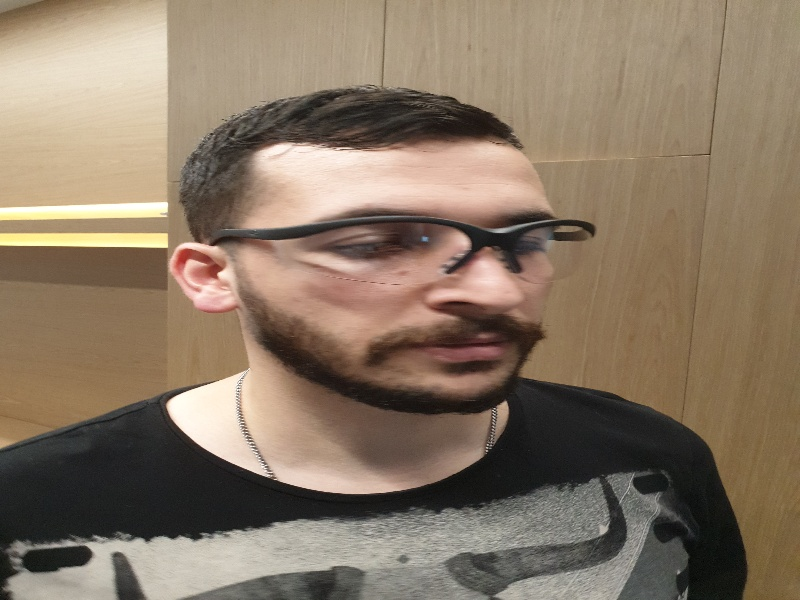Gozluk: (216, 215, 600, 295)
